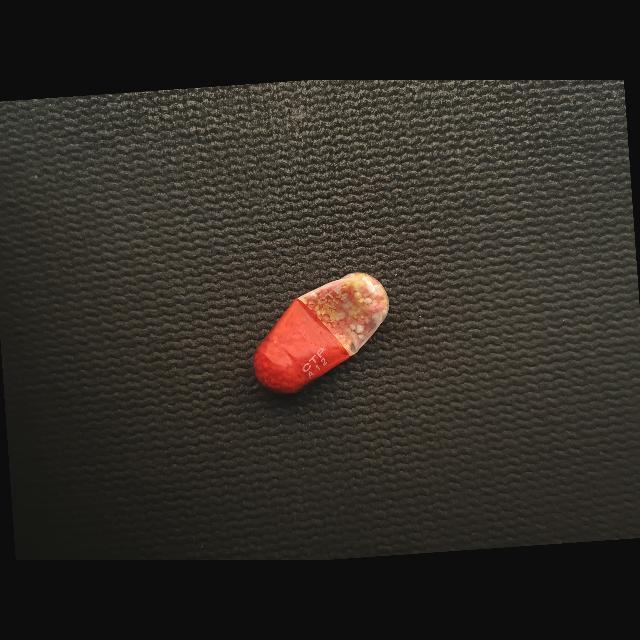Defective Capsule: (253, 272, 389, 393)
